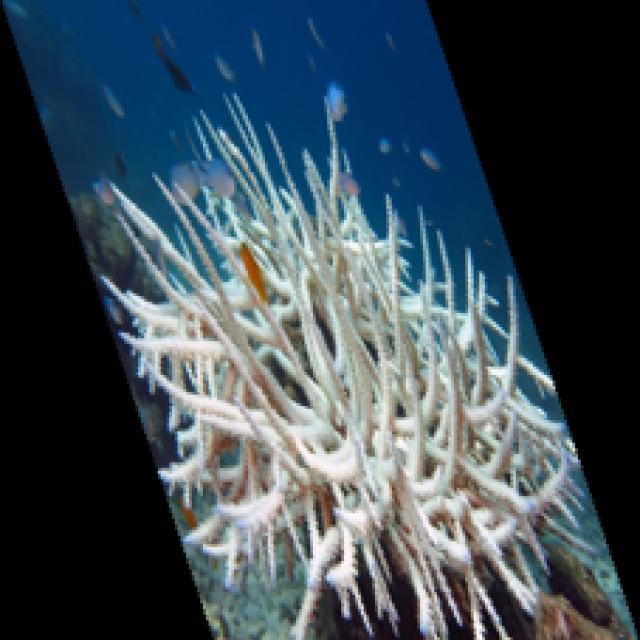Bleached: (102, 105, 587, 639)
